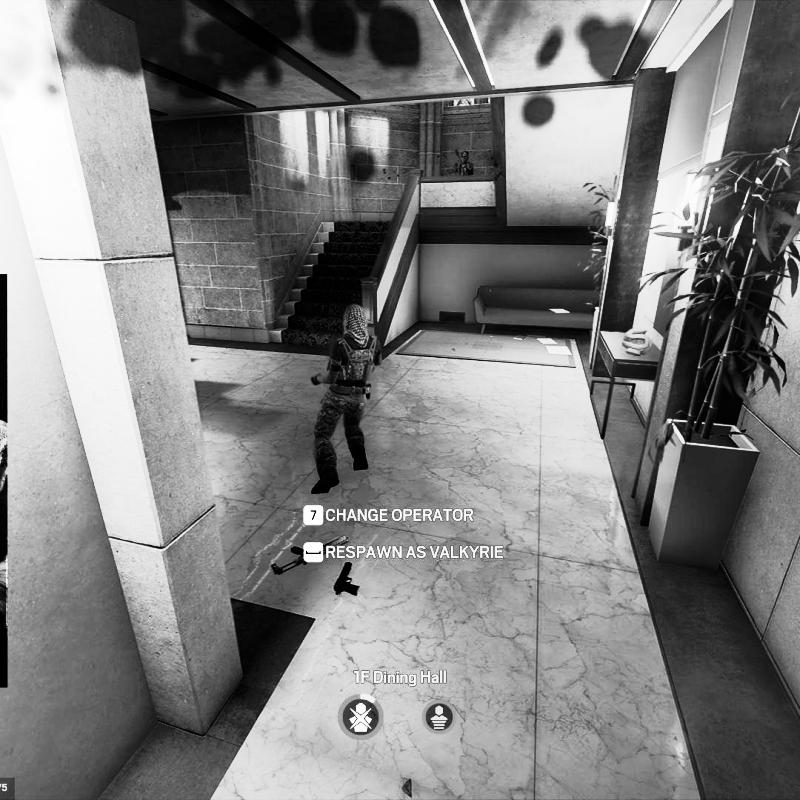Character: (308, 300, 387, 496), (455, 148, 477, 174)
Head: (343, 304, 371, 342), (460, 150, 470, 162)
